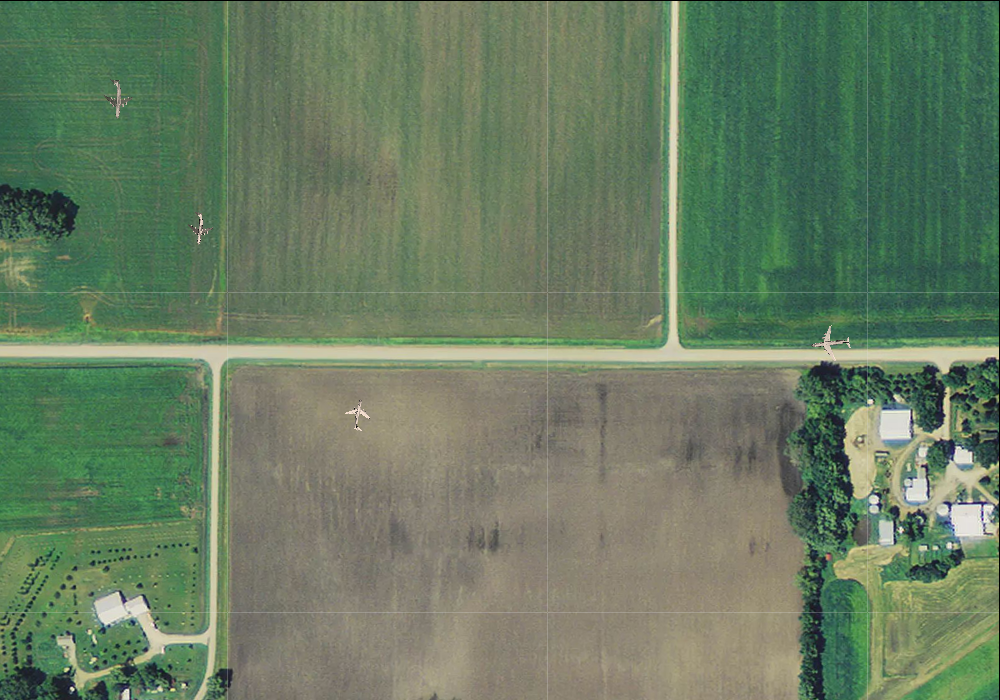plane: (809, 322, 853, 364), (97, 77, 134, 119), (340, 396, 376, 433), (181, 209, 215, 246)
